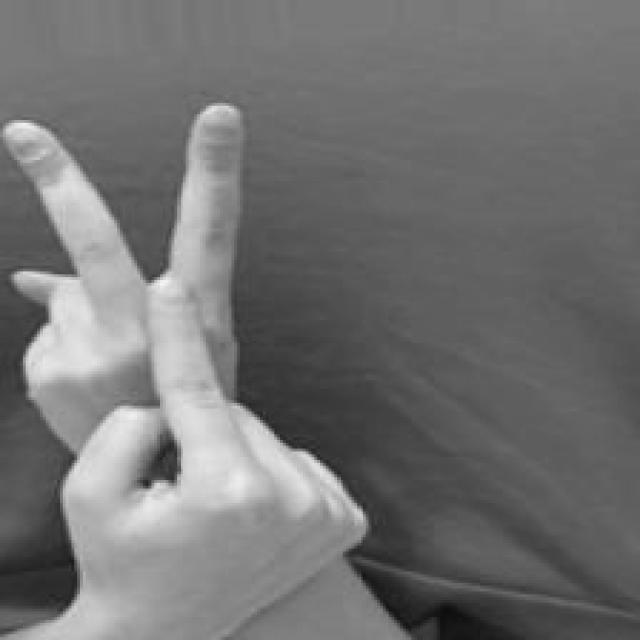Y: (3, 100, 371, 640)
